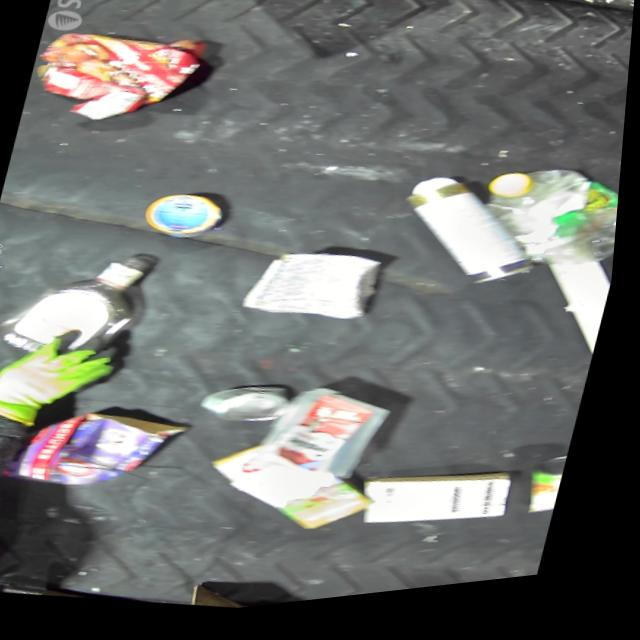can: (386, 170, 562, 313), (203, 377, 305, 440), (140, 186, 235, 253), (527, 462, 576, 531)
plastic_bottle: (468, 161, 626, 297)
